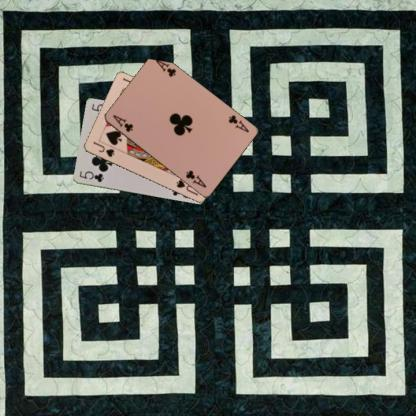5c: (77, 169, 104, 183)
Ac: (110, 112, 134, 134), (226, 112, 250, 134)
Js: (90, 139, 116, 158)
